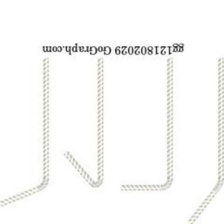drinking_straw: (117, 56, 179, 197), (0, 55, 54, 210), (59, 54, 110, 192), (185, 54, 223, 223)
